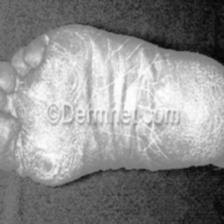Toxin: (184, 61, 220, 121), (17, 98, 46, 134)
